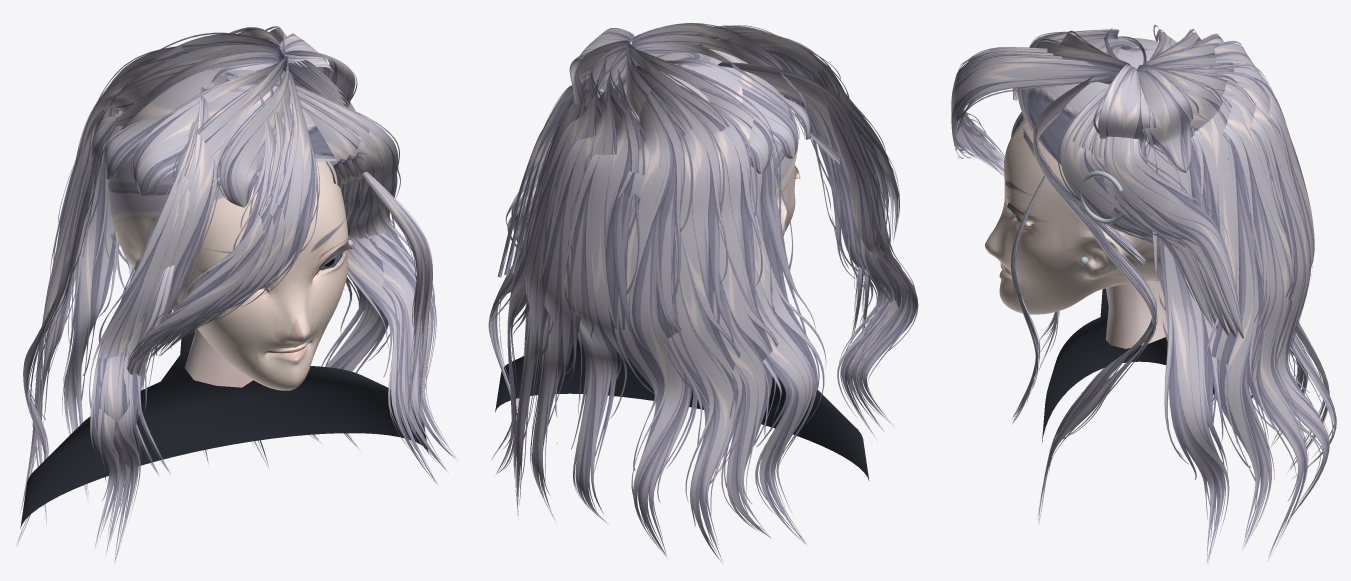
Rendered from a1-head-study.glb.
3 renders of one model, left to right at view 1: azimuth 30°, elevation 25°; view 2: azimuth 150°, elevation 25°; view 3: azimuth 270°, elevation 25°, orthographic. The views are drawn at different scales.
Parts seen in each view (by area): view 1: A1_KnitBust, A1_Face, A1_Scalp, A1_SideWave_-1_2, A1_BackWave_03, A1_SideWave_-1_0, A1_SideWave_1_0, A1_SideWave_1_1, A1_SideWave_1_2, A1_SweptFringe_03, A1_SweptFringe_00, A1_BackWave_02 (+20 smaller); view 2: A1_BackWave_03, A1_BackWave_02, A1_BackWave_04, A1_BackWave_01, A1_BackWave_00, A1_BackWave_05, A1_SideWave_-1_2, A1_BackWave_06, A1_KnitBust, A1_SideWave_-1_0, A1_SideWave_-1_1, A1_SweptFringe_03 (+21 smaller); view 3: A1_Face, A1_BackWave_07, A1_BackWave_08, A1_BackWave_06, A1_BackWave_05, A1_BackTemple_5, A1_SweptFringe_00, A1_KnitBust, A1_Scalp, A1_CrownRoot_03, A1_BackWave_04, A1_BackTemple_0 (+23 smaller).
Part boxes in pixels (x1,y1,x2,y2): A1_KnitBust: (20,329,428,528); A1_Face: (116,161,352,390); A1_Scalp: (108,67,336,238); A1_SideWave_-1_2: (89,115,198,549); A1_BackWave_03: (62,44,213,499); A1_SideWave_-1_0: (112,87,219,562); A1_SideWave_1_0: (275,84,436,483); A1_SideWave_1_1: (276,80,446,470); A1_SideWave_1_2: (265,74,458,461); A1_SweptFringe_03: (126,79,275,365); A1_SweptFringe_00: (159,67,319,356); A1_BackWave_02: (32,55,179,524); A1_BackWave_03: (613,90,698,556); A1_BackWave_02: (636,65,740,561); A1_BackWave_04: (564,69,644,523); A1_BackWave_01: (678,84,782,537); A1_BackWave_00: (699,86,826,543); A1_BackWave_05: (530,64,616,520); A1_SideWave_-1_2: (718,64,918,425); A1_BackWave_06: (513,58,606,515); A1_KnitBust: (495,337,869,480); A1_SideWave_-1_0: (718,62,903,436); A1_SideWave_-1_1: (718,63,910,431); A1_SweptFringe_03: (698,35,899,241); A1_Face: (985,119,1162,314); A1_BackWave_07: (1190,91,1274,549); A1_BackWave_08: (1145,137,1230,563); A1_BackWave_06: (1221,79,1308,560); A1_BackWave_05: (1212,71,1329,521); A1_BackTemple_5: (1104,136,1244,338); A1_SweptFringe_00: (951,55,1111,175); A1_KnitBust: (1041,288,1237,444); A1_Scalp: (1017,37,1172,165); A1_CrownRoot_03: (1138,64,1198,172); A1_BackWave_04: (1207,63,1336,478); A1_BackTemple_0: (1057,85,1183,272).
Size of the model in its own units: 0.3665 by 0.4394 by 0.3135.
Materials: 7 (5 with a texture image).
